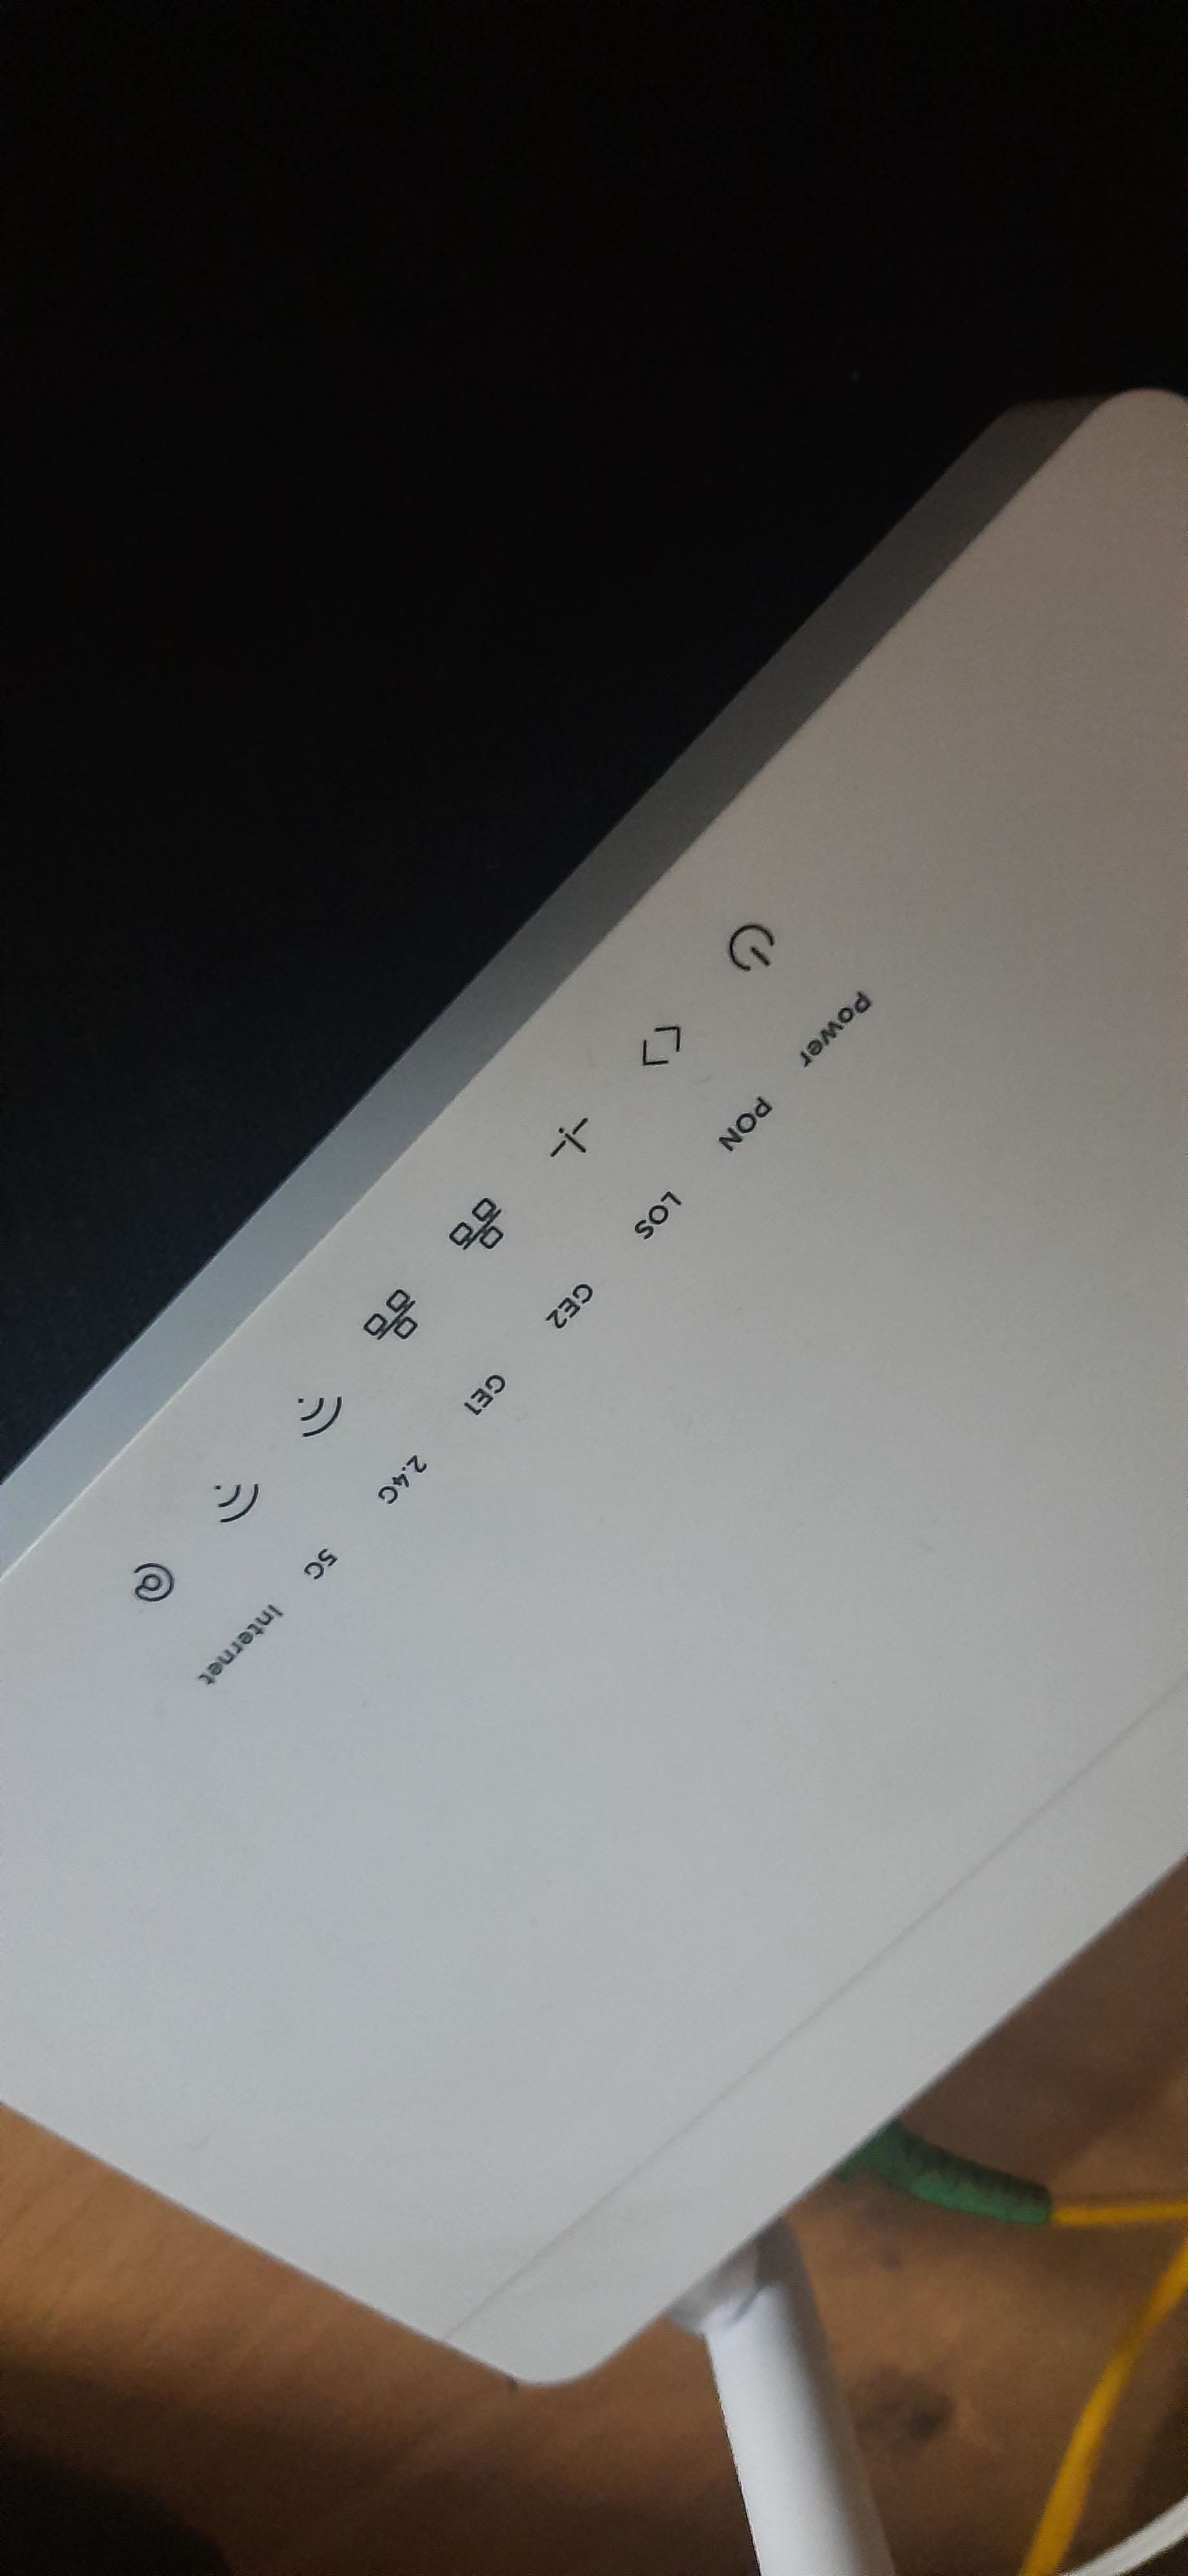WhiteWireIssue: (30, 831, 907, 1718)
